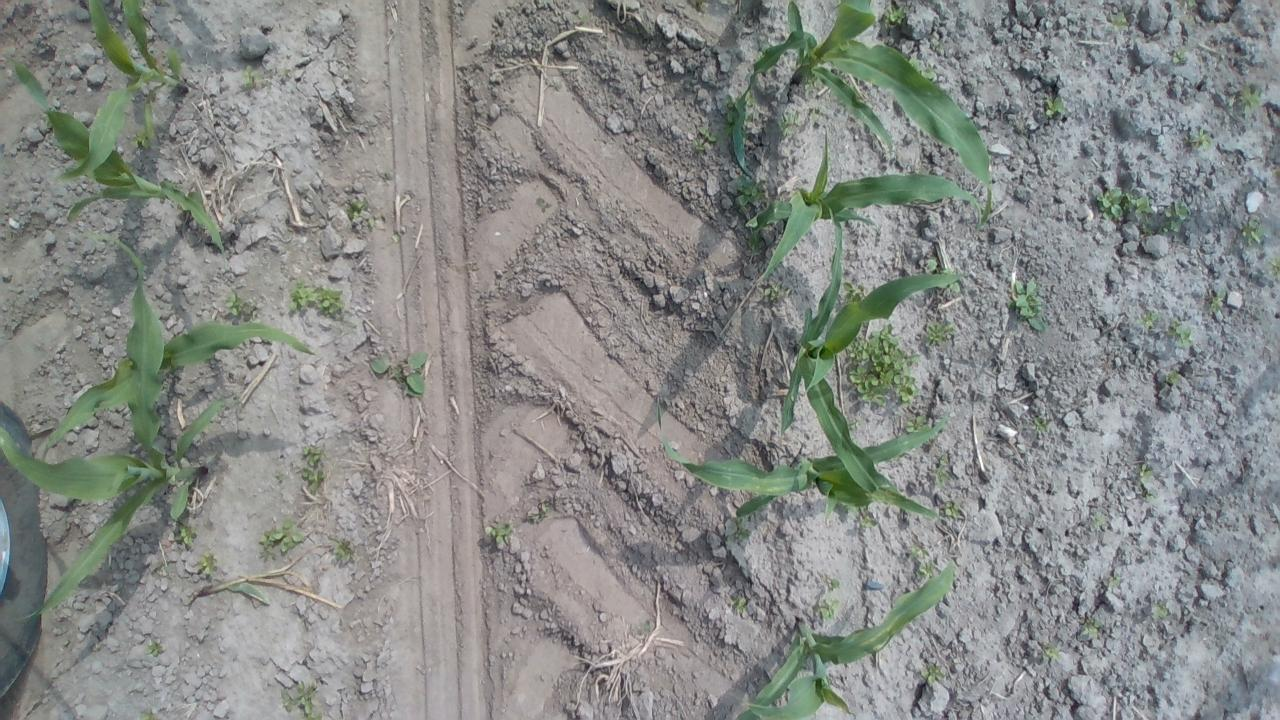Maize: (0, 231, 229, 622), (732, 0, 992, 221), (2, 50, 226, 256), (782, 249, 962, 498), (654, 392, 950, 524), (741, 127, 985, 280), (42, 324, 316, 459), (736, 554, 952, 720), (59, 0, 188, 178), (191, 556, 342, 614)
Weeds: (848, 323, 922, 408), (366, 348, 428, 399), (288, 276, 345, 316), (1007, 277, 1045, 330), (258, 518, 300, 560), (280, 676, 322, 713), (1094, 184, 1124, 222), (1159, 198, 1188, 233), (734, 175, 766, 205), (482, 519, 514, 548), (1168, 314, 1192, 350), (300, 440, 330, 468), (329, 538, 357, 566), (1238, 216, 1266, 244), (926, 321, 956, 347), (1076, 610, 1102, 640), (1123, 192, 1153, 218), (1239, 84, 1263, 116), (811, 597, 841, 622), (931, 450, 950, 487), (726, 516, 751, 543), (302, 467, 326, 494), (764, 278, 791, 302), (777, 107, 800, 135), (920, 660, 946, 684), (222, 287, 243, 316), (1188, 124, 1212, 149), (882, 4, 906, 29), (1133, 309, 1159, 332), (522, 502, 550, 523), (195, 549, 218, 574), (172, 524, 198, 546), (695, 126, 718, 150), (241, 65, 261, 90), (1044, 95, 1066, 117), (345, 198, 365, 222), (842, 281, 866, 301), (1207, 288, 1225, 314), (1150, 598, 1171, 620), (1039, 641, 1063, 660), (1109, 11, 1130, 32), (128, 130, 150, 150), (147, 636, 166, 658), (1088, 510, 1108, 530), (730, 589, 746, 613), (1164, 369, 1182, 390), (804, 102, 822, 122), (858, 512, 878, 530), (535, 196, 552, 217), (905, 415, 926, 432), (908, 541, 930, 557), (1172, 41, 1188, 63), (1034, 415, 1054, 432), (635, 618, 653, 636), (726, 95, 738, 122), (824, 574, 842, 592), (916, 560, 933, 579), (804, 78, 824, 94), (1268, 256, 1280, 282), (376, 164, 393, 182), (942, 499, 959, 517), (1105, 575, 1123, 589), (920, 65, 935, 80), (924, 259, 940, 273), (1138, 462, 1152, 478), (272, 468, 286, 483), (1142, 486, 1156, 500), (1138, 223, 1155, 234), (929, 36, 942, 50), (142, 705, 154, 720), (694, 0, 709, 11), (852, 414, 862, 430), (299, 714, 325, 720), (280, 66, 293, 78), (910, 56, 921, 70), (746, 90, 756, 105), (949, 282, 960, 294), (391, 232, 401, 244), (723, 126, 735, 136), (368, 217, 378, 228), (578, 10, 586, 21), (940, 268, 954, 274), (748, 110, 754, 122)
